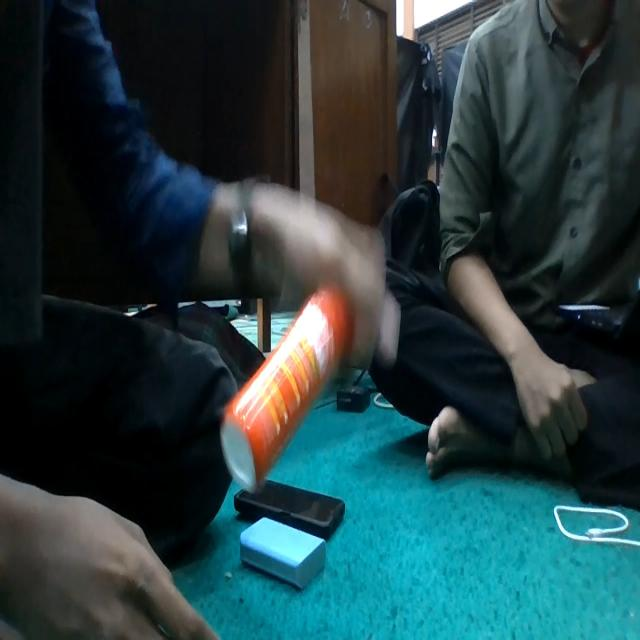Boncabe: (220, 288, 354, 491)
Powerbank: (240, 517, 326, 589)
